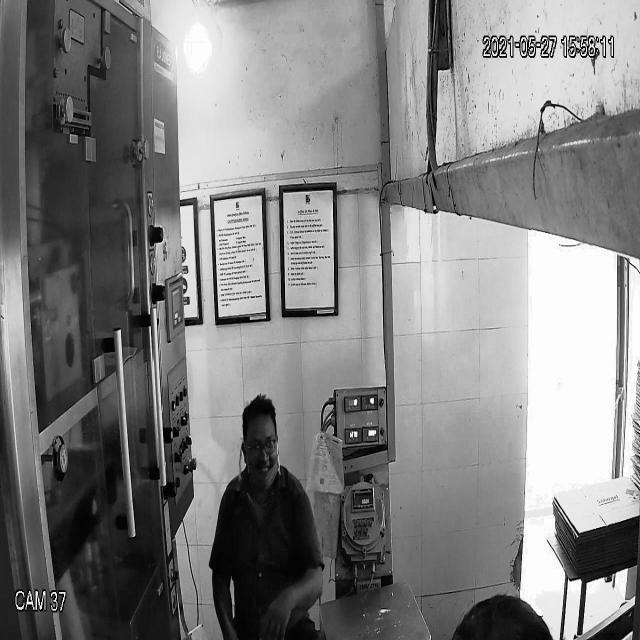glasses: (238, 428, 284, 459)
